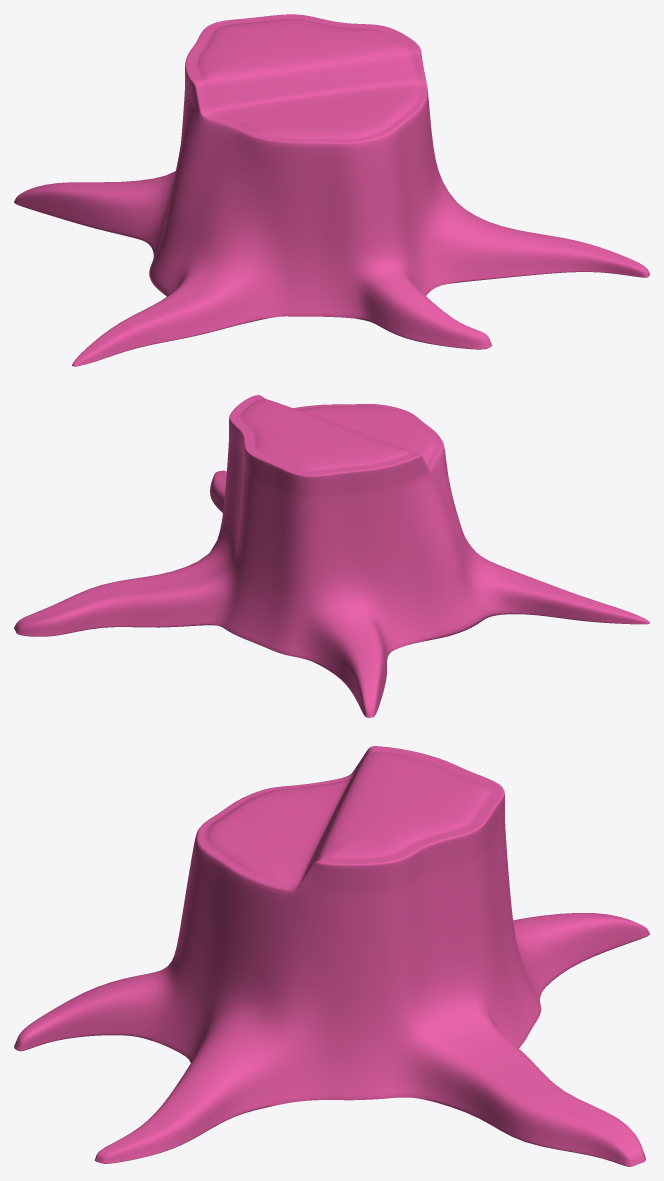
Rendered from Tronco2.fbx.
3 views of the same model, one above another, from view 1: azimuth 30°, elevation 25°; view 2: azimuth 150°, elevation 25°; view 3: azimuth 270°, elevation 25° (orthographic). The views are drawn at different scales.
Parts seen in each view (by area): view 1: Cylinder.006; view 2: Cylinder.006; view 3: Cylinder.006.
Part boxes in pixels (<box>): Cylinder.006: <box>14,14,649,366</box>; Cylinder.006: <box>14,395,649,717</box>; Cylinder.006: <box>14,746,649,1166</box>.
Size of the model in its own units: 199 by 71.27 by 177.
